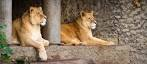lion: (10, 5, 50, 63), (57, 8, 112, 48)
